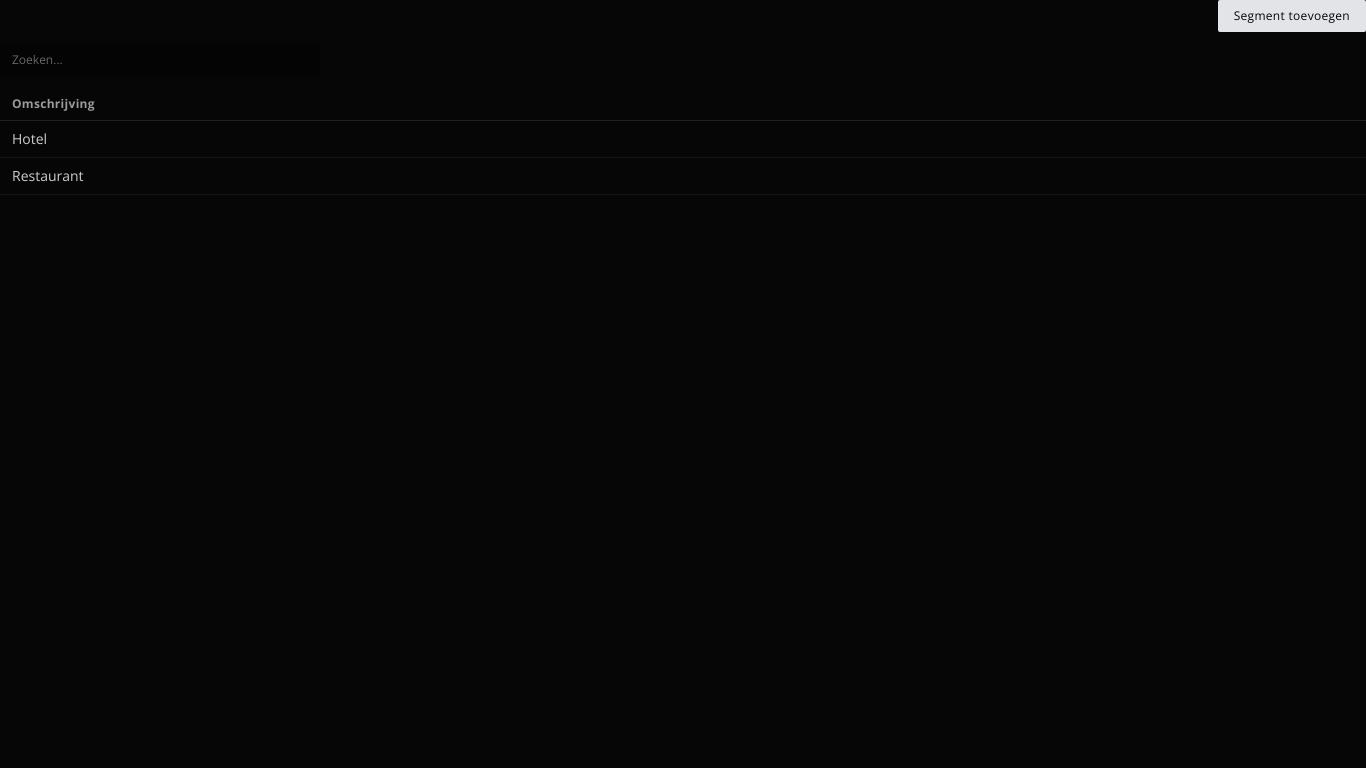
Scenario: SegmentenSection › adds a new segment and closes the modal
Click the button with test id "segmenten-add" at {"x": 1292, "y": 16}, box [1218,0,1365,32]
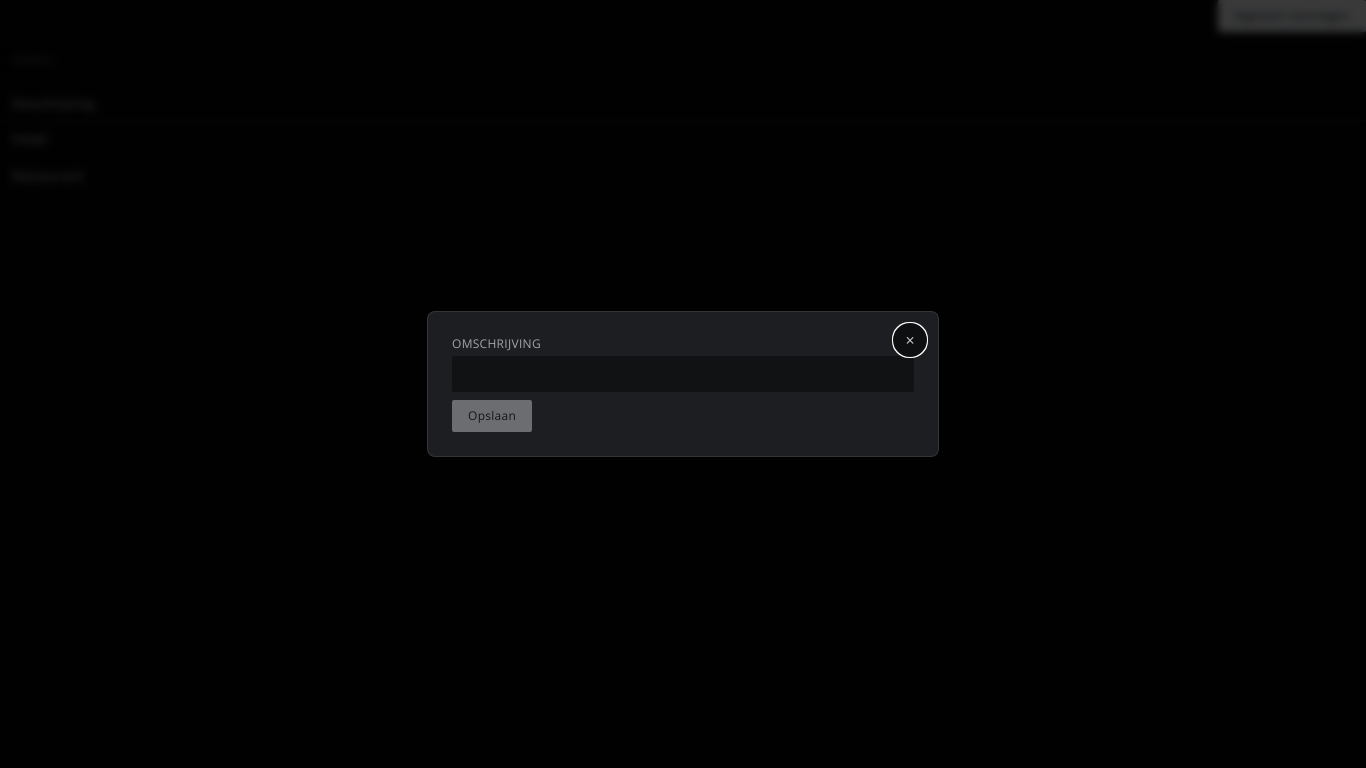
Type "Wellness" into the field with test id "segment-modal-omschrijving" at {"x": 683, "y": 374}, box [452,356,914,392]
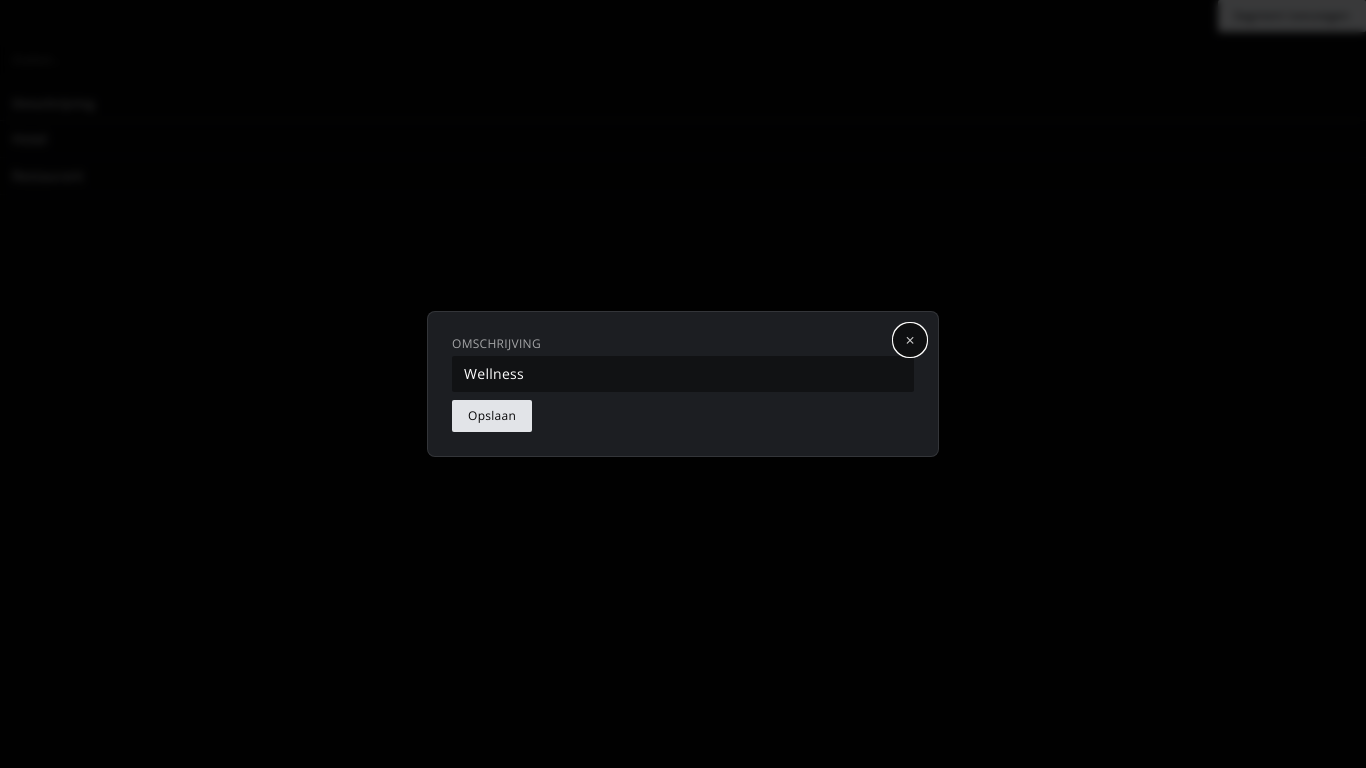
Click the button with test id "segment-modal-opslaan" at {"x": 492, "y": 416}, box [452,400,532,432]
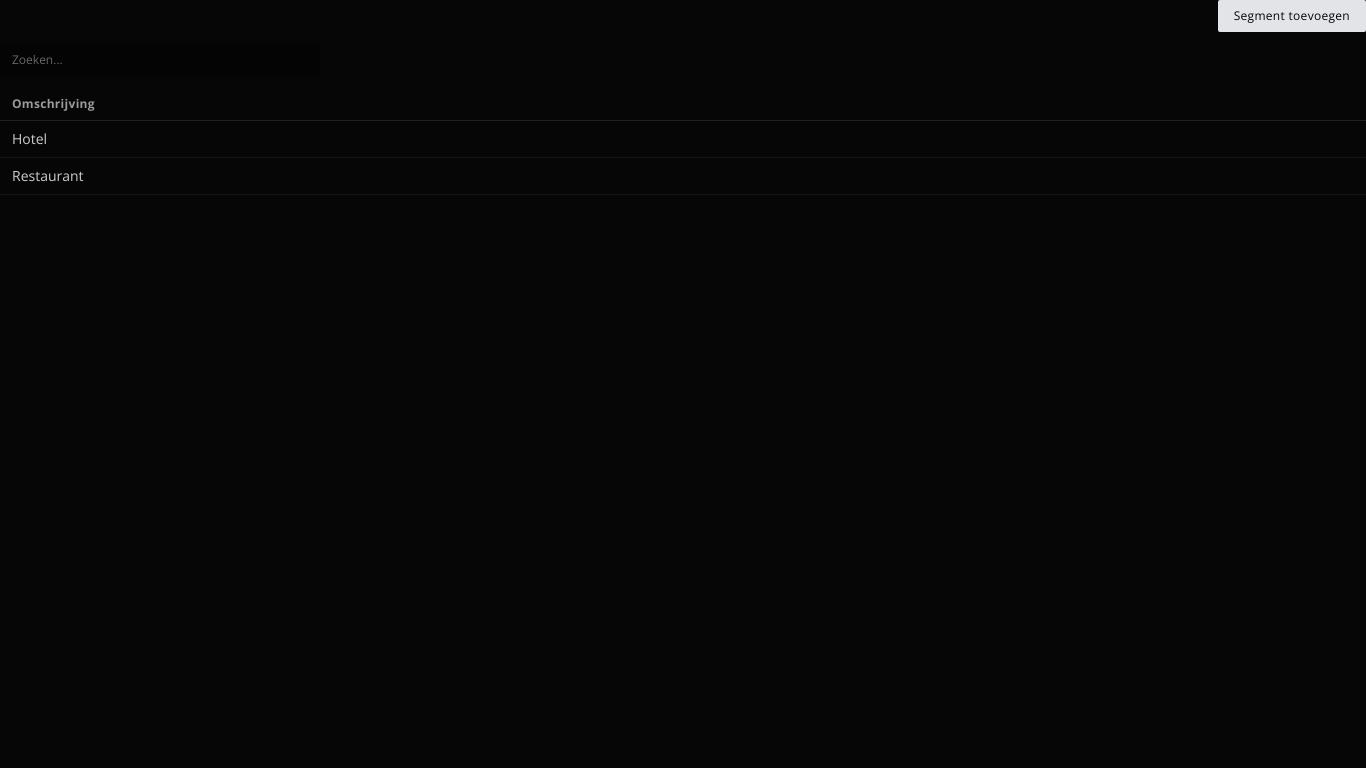
Now the element with test id "segment-modal" is gone
